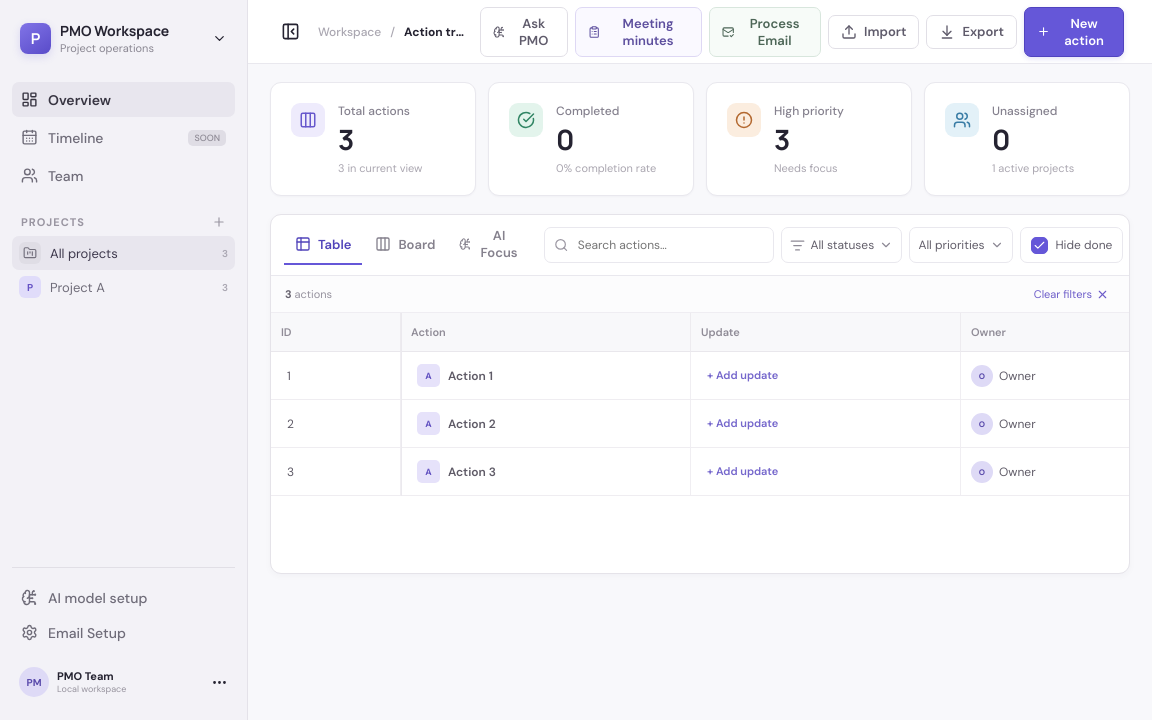
Test case: meeting transcript workflow › confirms a project and lets the user match an extracted action
Click the button "Meeting minutes": (638, 32) [575, 6, 702, 56]
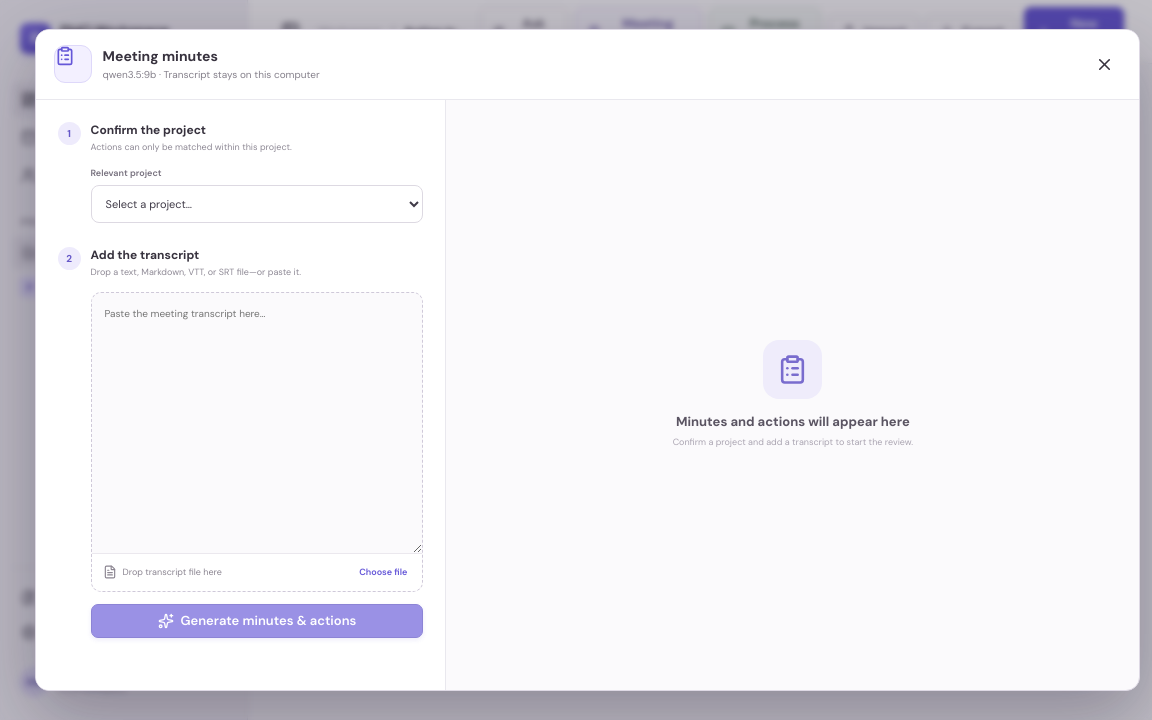
Select "Project A" in the dropdown labelled "Relevant project": (257, 204) [90, 185, 423, 223]
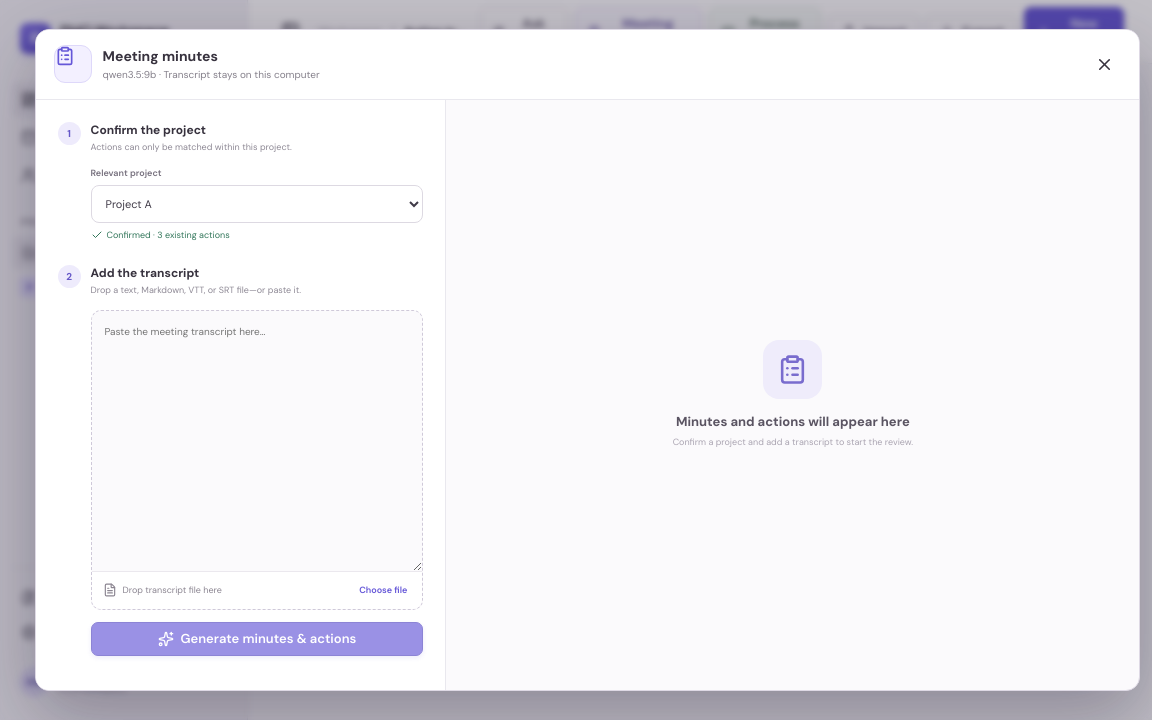
Result: the text "Confirmed · 3 existing actions" is shown at [90, 229, 230, 241]
In the text box labelled "meeting transcript": (257, 441) [92, 311, 422, 571], type "Owner: We reviewed delivery. I will confirm the next delivery step by Friday."
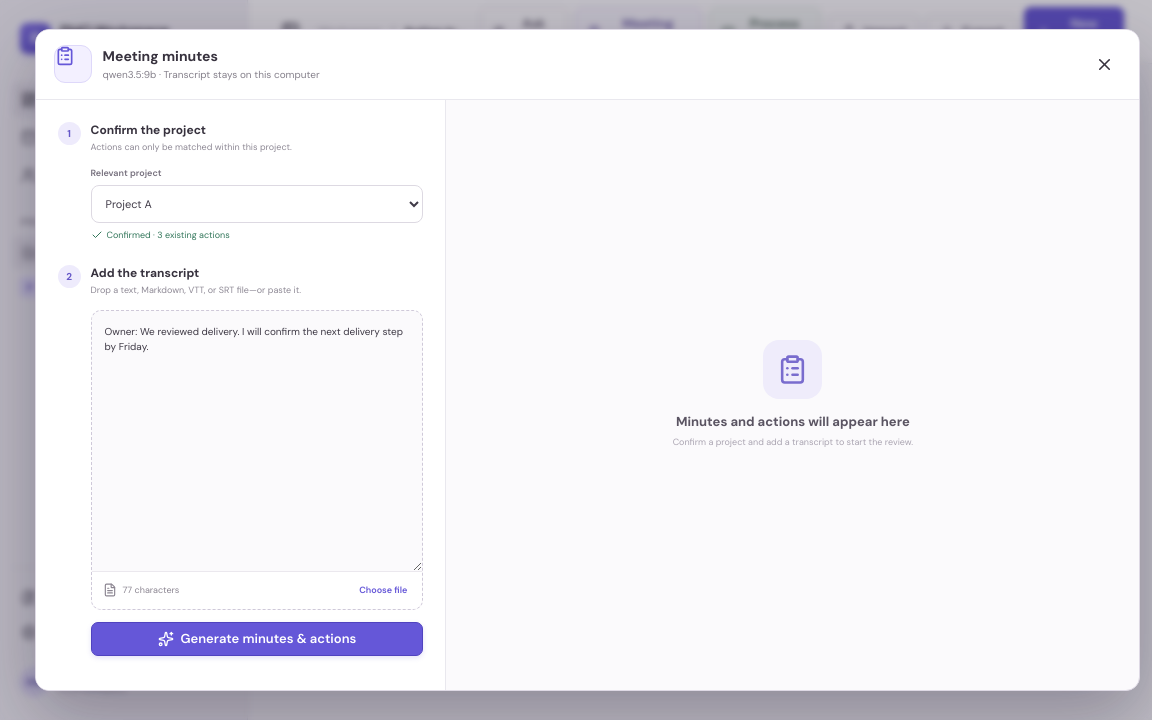
Click the button "Generate minutes & actions": (257, 639) [90, 622, 423, 656]
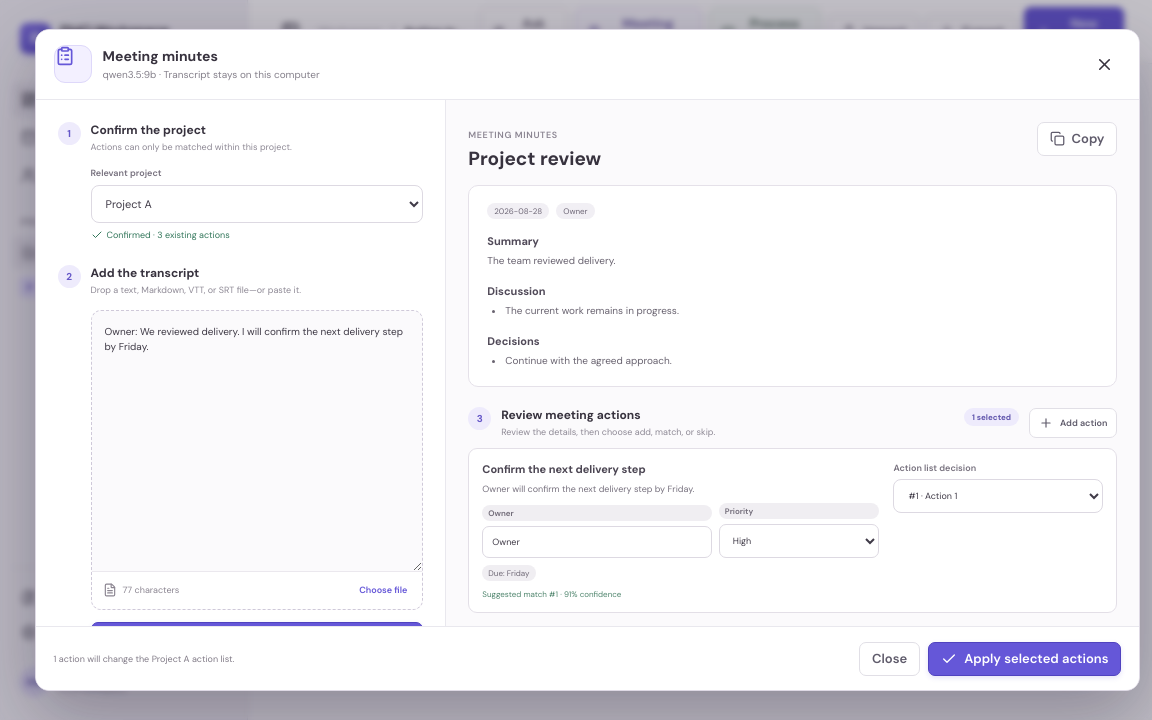
Result: the heading "Project review" is shown at [468, 146, 601, 171]
Result: the dropdown named "Decision for Confirm the next delivery step" shows "#1 · Action 1" at [894, 480, 1104, 514]
Click the button "Apply selected actions": (1025, 659) [928, 642, 1121, 676]
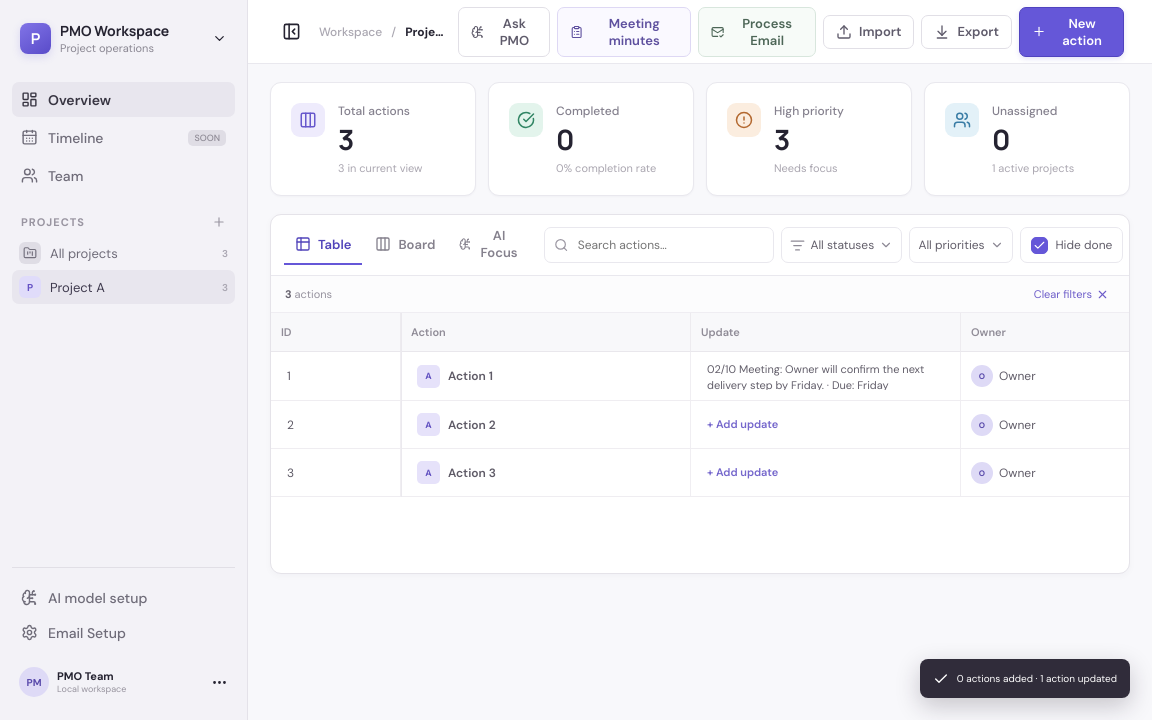
Result: the text "0 actions added · 1 action updated" is shown at [920, 659, 1130, 698]
